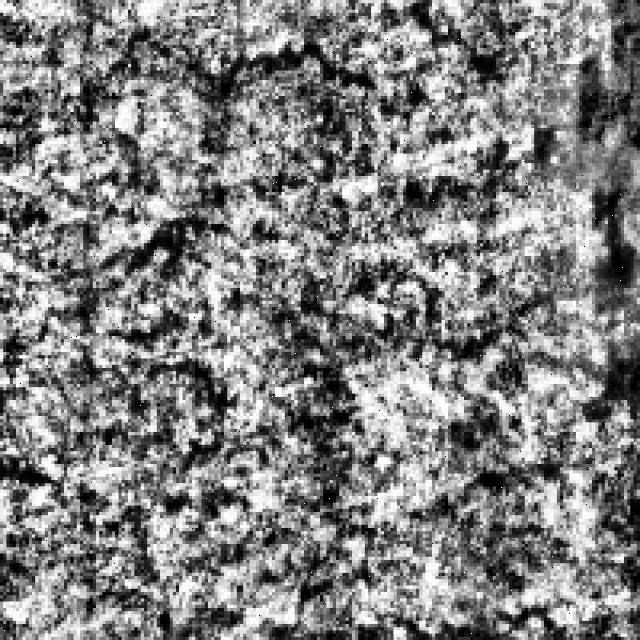Pitted_Surface: (84, 0, 502, 266), (3, 278, 278, 534), (269, 454, 637, 637)
